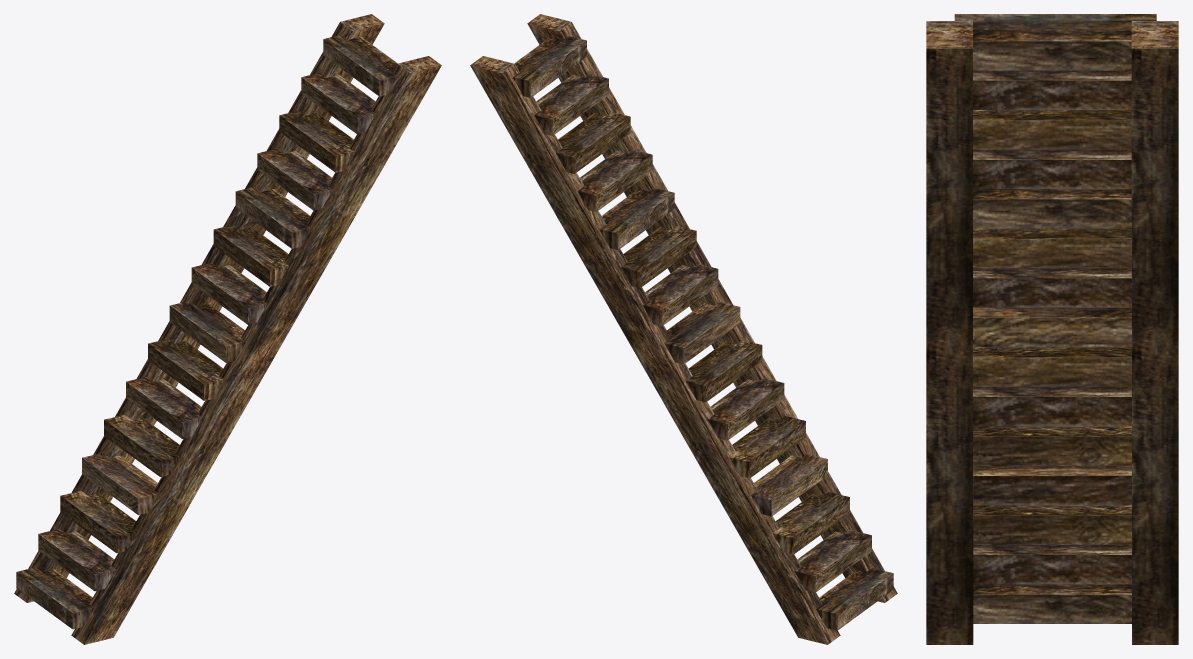
Rendered from hrt_ladder2.glb.
3 views of the same model, side by side, from view 1: azimuth 30°, elevation 25°; view 2: azimuth 150°, elevation 25°; view 3: azimuth 270°, elevation 25° (orthographic). The views are drawn at different scales.
Visible parts, largest first — view 1: hrt_ladder2; view 2: hrt_ladder2; view 3: hrt_ladder2.
Part boxes in pixels (box(x1,y1,x2,y2)): hrt_ladder2: box(14, 14, 441, 644); hrt_ladder2: box(470, 14, 897, 644); hrt_ladder2: box(926, 14, 1178, 644).
Bounding box in the file's own units: 3.08 × 4.01 × 1.04.
1 material, 1 textured.
